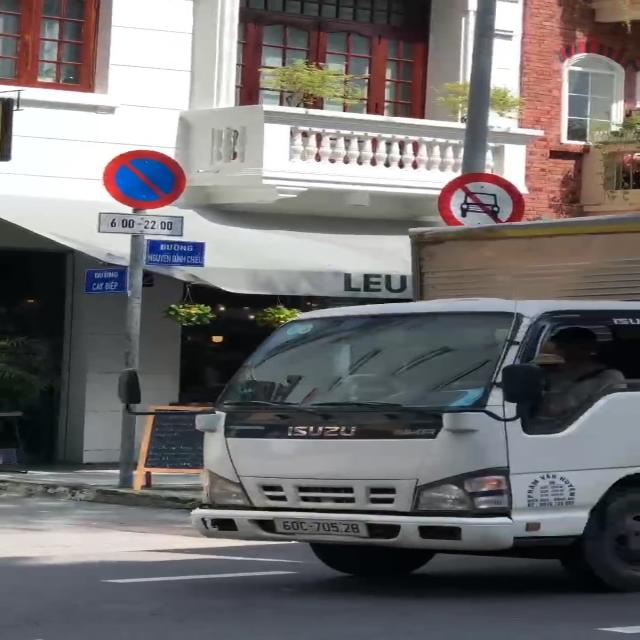Bien bao cam do xe: (97, 146, 192, 212)
Bien bao cam xe oto: (431, 169, 528, 231)
